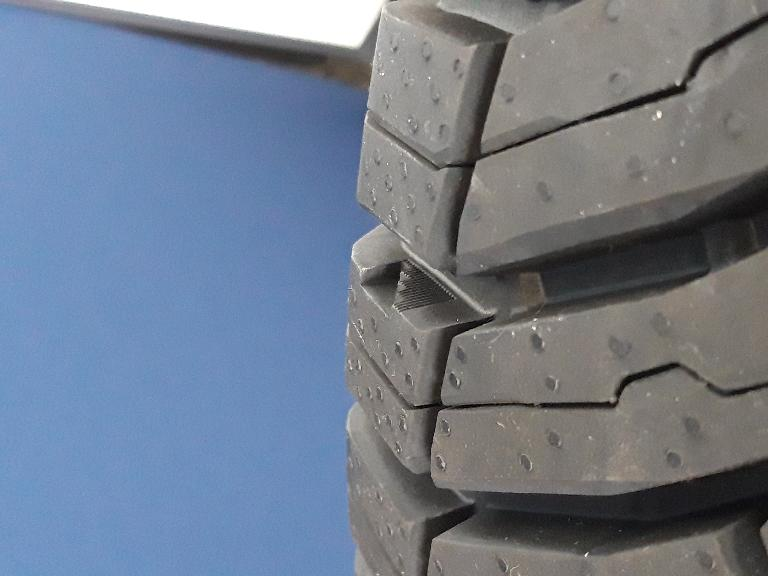temoin:100: (358, 257, 458, 322)
